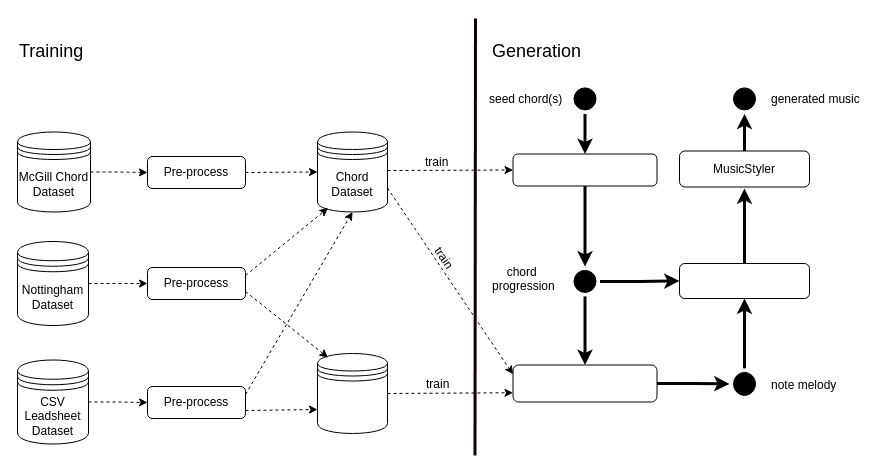
Some shapes in this 887 by 475 pixel diagram are drawn without their labels. Each missing label, with the centre of its shape:
"ChordGenerator" belongs at point 584,169.
"ChordNoteMerger" belongs at point 744,280.
"ChordToNoteGenerator" belongs at point 584,383.
"Note Dataset" belongs at point 352,393.
